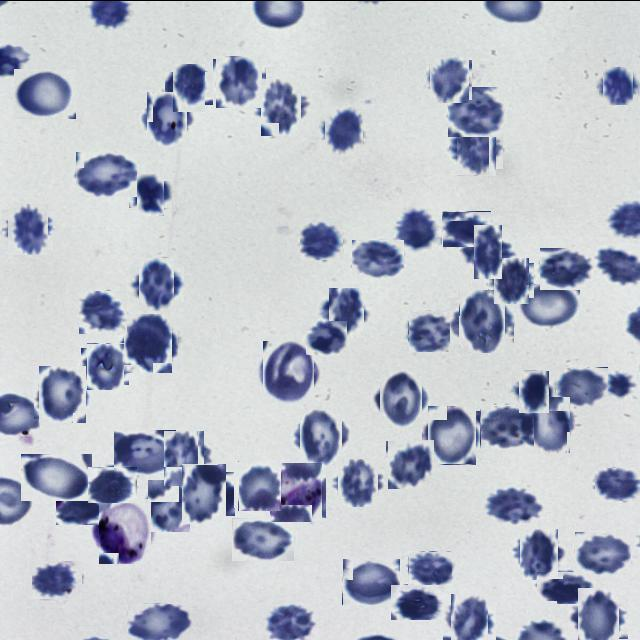red blood cell: (21, 453, 92, 500), (260, 342, 317, 399), (454, 292, 510, 348), (14, 68, 76, 118), (121, 315, 175, 369), (424, 408, 478, 462), (75, 150, 137, 196), (178, 466, 230, 520), (448, 86, 504, 136), (518, 284, 580, 329), (114, 429, 176, 474), (342, 557, 400, 604), (36, 368, 88, 420), (232, 517, 294, 560), (523, 398, 573, 449), (574, 530, 631, 574), (296, 411, 346, 461), (376, 374, 426, 424), (572, 591, 623, 640), (485, 484, 542, 527), (215, 56, 264, 106), (480, 404, 534, 449), (256, 82, 306, 130), (128, 603, 192, 640), (143, 94, 191, 142), (160, 433, 208, 481), (387, 439, 435, 487), (540, 247, 594, 289), (146, 481, 193, 529), (453, 125, 500, 172), (235, 462, 282, 509), (555, 366, 608, 406), (516, 530, 562, 576), (5, 206, 50, 252), (79, 290, 127, 333), (336, 460, 381, 504), (446, 597, 492, 640), (352, 239, 404, 277), (390, 584, 444, 620), (135, 262, 179, 306), (322, 110, 366, 154), (536, 570, 594, 603), (32, 560, 82, 598), (325, 290, 368, 334), (395, 207, 439, 250), (408, 309, 450, 352), (300, 217, 343, 259), (88, 466, 137, 502), (428, 58, 470, 100), (442, 210, 491, 246), (85, 344, 126, 387), (265, 603, 312, 640), (467, 231, 509, 272), (491, 260, 532, 300), (594, 466, 640, 501), (169, 68, 209, 108), (408, 550, 452, 584), (306, 320, 347, 354), (56, 495, 104, 524), (515, 372, 553, 408), (133, 176, 168, 211), (602, 68, 636, 102)
trophozoite: (96, 500, 154, 560), (268, 463, 324, 519)
